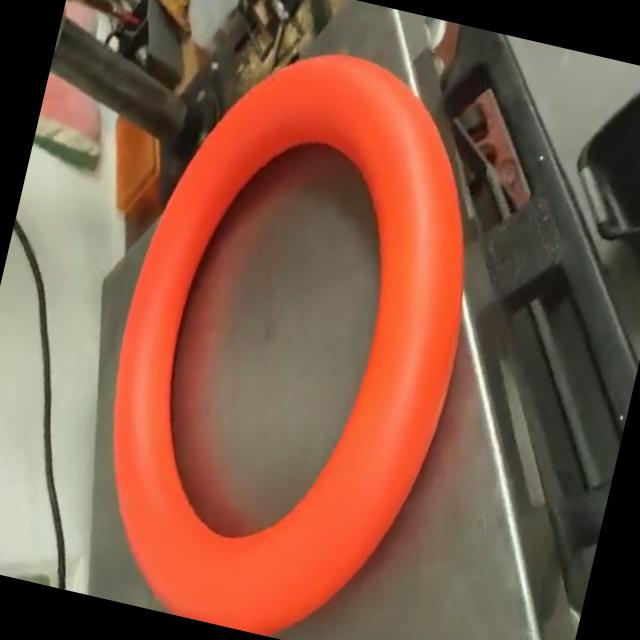note: (59, 16, 523, 640)
